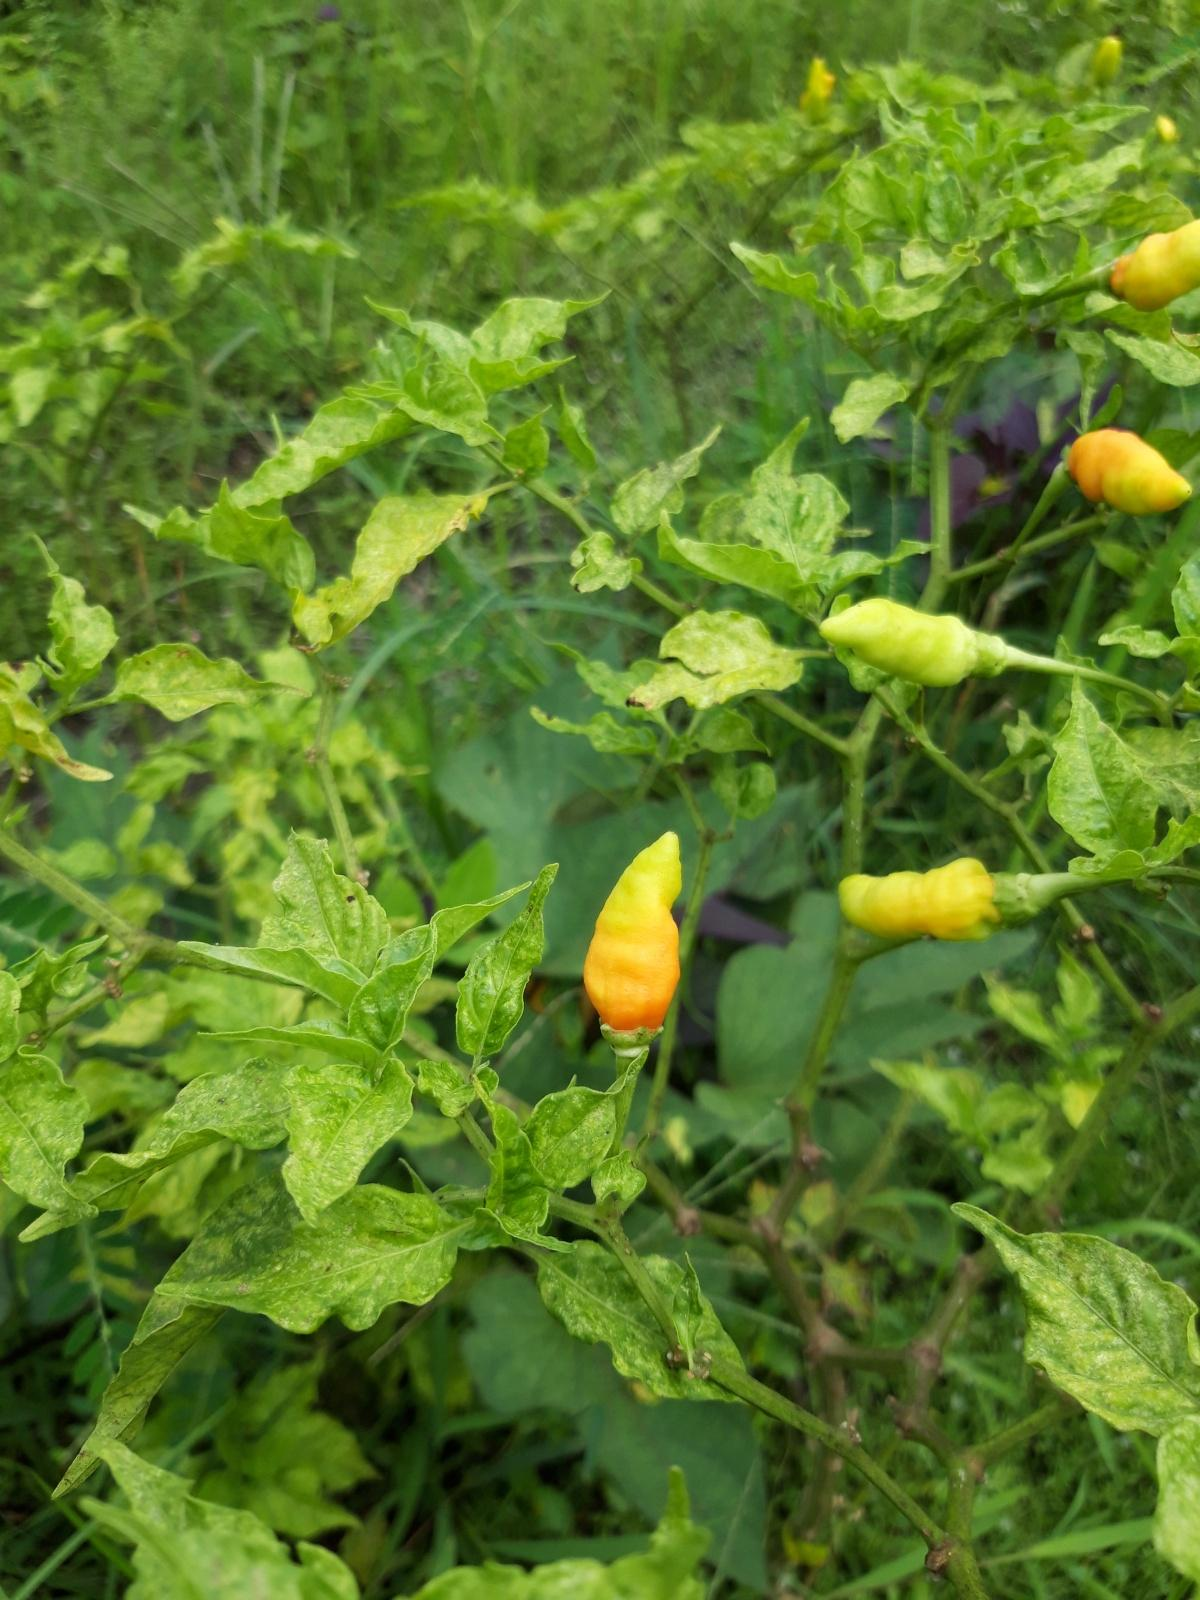cabai_normal: (581, 825, 682, 1033), (817, 600, 981, 689), (833, 858, 1001, 942), (1070, 425, 1195, 510), (1116, 213, 1200, 314)
